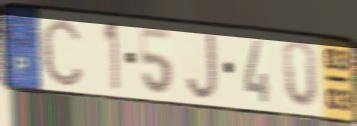0: (281, 39, 320, 112)
1: (101, 19, 123, 96)
4: (242, 39, 271, 105)
5: (137, 24, 176, 98)
C: (39, 15, 86, 89)
J: (184, 30, 220, 102)
